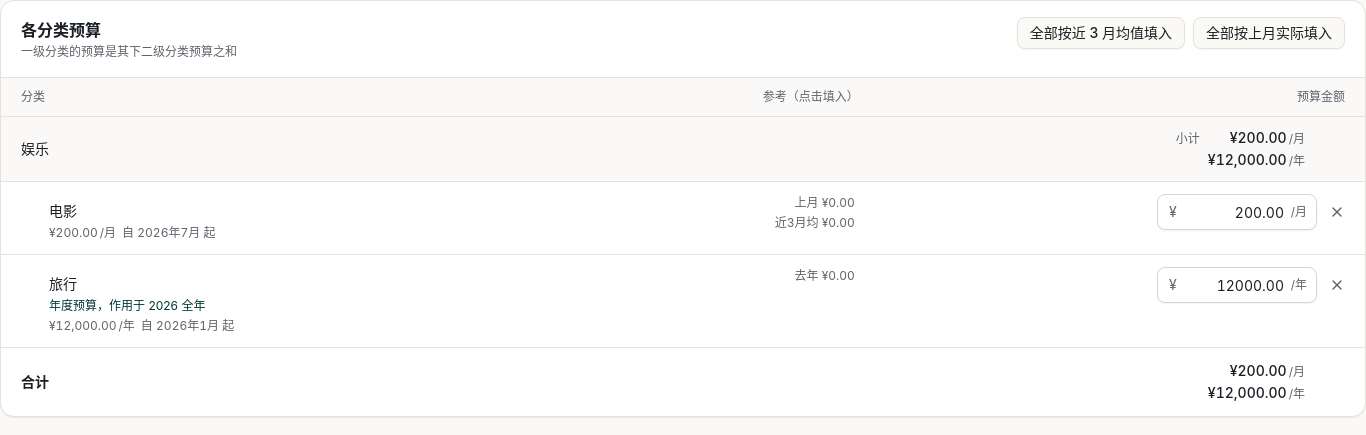
Test: BudgetTable › with an annual budget account › keeps monthly and annual amounts apart in subtotals and totals
expect the text "¥200.00" next to "小计" is shown: met, box [1230,129,1287,146]
expect the text "¥12,000.00" below "小计" is shown: met, box [1208,151,1287,168]
Replace the text in the field named "「旅行」的预算金额" with "15000". click: (1237, 285)
box: [1157,267,1317,303]
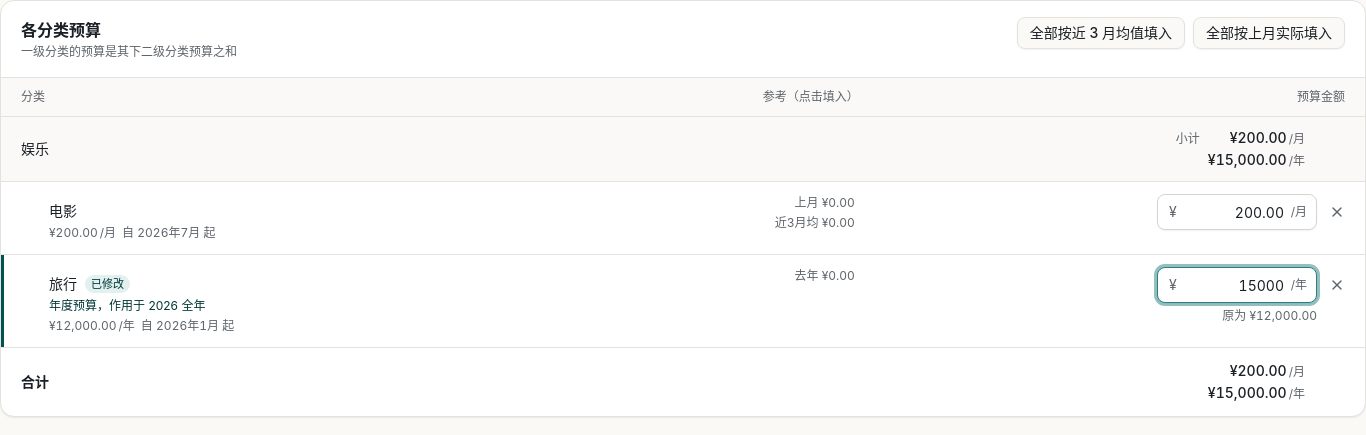
expect the text "¥15,000.00" below "小计" is shown: met, box [1208,151,1287,168]
